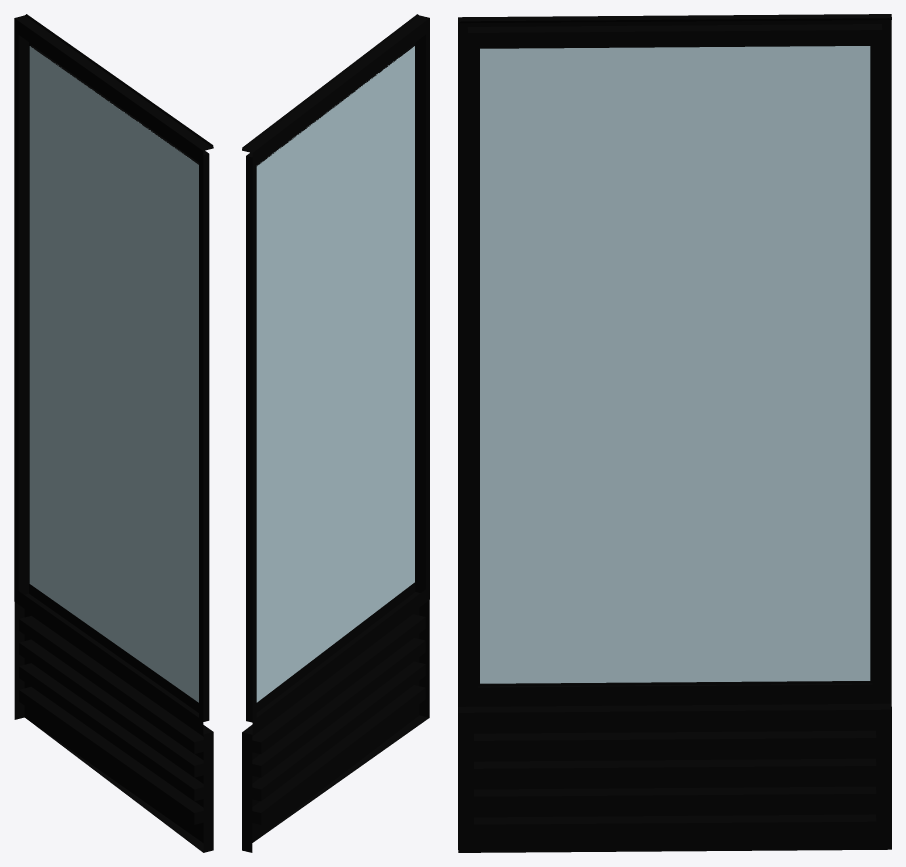
Rendered from Porta03Aberta.glb.
The picture shows the model from 3 angles, left to right: view 1: azimuth 30°, elevation 25°; view 2: azimuth 150°, elevation 25°; view 3: azimuth 270°, elevation 25°; orthographic projection. The views are drawn at different scales.
Parts seen in each view (by area): view 1: Porta3A; view 2: Porta3A; view 3: Porta3A.
Boxes of the visible parts, x1,y1,x2,y2 form: Porta3A: (14, 14, 213, 852); Porta3A: (242, 14, 429, 852); Porta3A: (458, 14, 891, 852).
Bounding box in the file's own units: 0.0577 × 2.06 × 0.9729.
